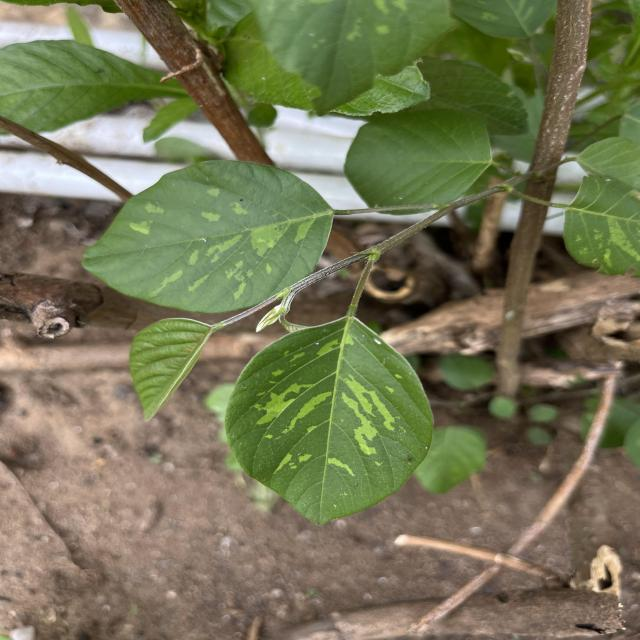Desmodium gangeticum: (222, 315, 438, 529)
